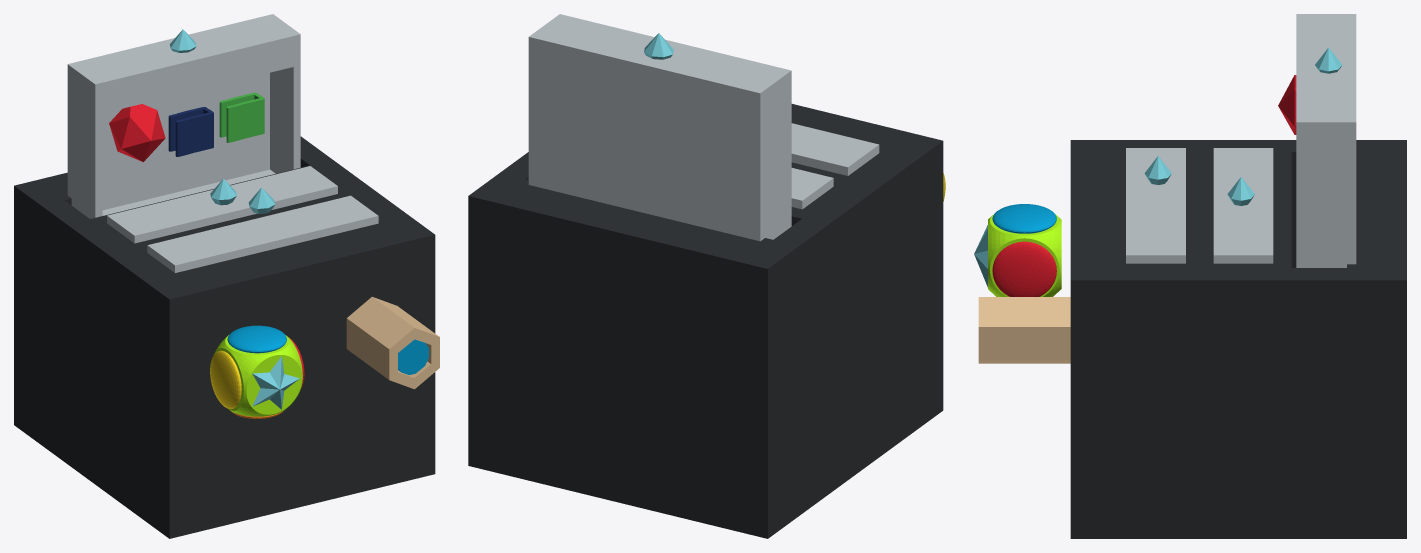
Rendered from tinker.obj.
The picture shows the model from 3 angles, left to right: view 1: azimuth 30°, elevation 25°; view 2: azimuth 150°, elevation 25°; view 3: azimuth 270°, elevation 25°; orthographic projection. The views are drawn at different scales.
Visible parts, largest first — view 1: group_0_2829873, group_0_12568524, group_0_14860437, group_0_11599642, group_0_7720667, group_0_15277357, group_0_40919, group_0_4634441, group_0_1650274, group_0_16768282; view 2: group_0_2829873, group_0_12568524; view 3: group_0_2829873, group_0_12568524, group_0_14860437, group_0_15277357, group_0_11599642, group_0_7720667, group_0_40919.
Part boxes in pixels (x1,y1,x2,y2): group_0_2829873: (14,136,435,538); group_0_12568524: (67,14,378,272); group_0_14860437: (346,296,439,389); group_0_11599642: (214,335,302,416); group_0_7720667: (170,29,299,409); group_0_15277357: (109,104,304,388); group_0_40919: (227,325,428,375); group_0_4634441: (219,92,264,142); group_0_1650274: (168,107,213,156); group_0_16768282: (210,350,241,409); group_0_2829873: (468,104,943,538); group_0_12568524: (528,14,879,241); group_0_2829873: (1070,140,1406,538); group_0_12568524: (1126,14,1356,267); group_0_14860437: (978,297,1070,363); group_0_15277357: (992,75,1296,296); group_0_11599642: (988,214,1061,296); group_0_7720667: (974,47,1342,287); group_0_40919: (992,204,1056,233).
Bounding box in the file's own units: 72 × 101 × 94.
